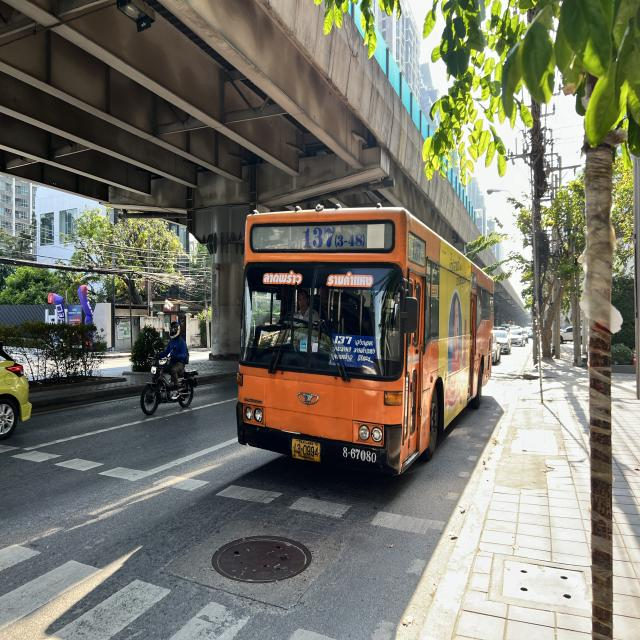BMTA-bus: (235, 208, 496, 479)
Bus-Line-Number: (301, 224, 367, 252)
Destination-Sign-Normal: (330, 333, 377, 369)
